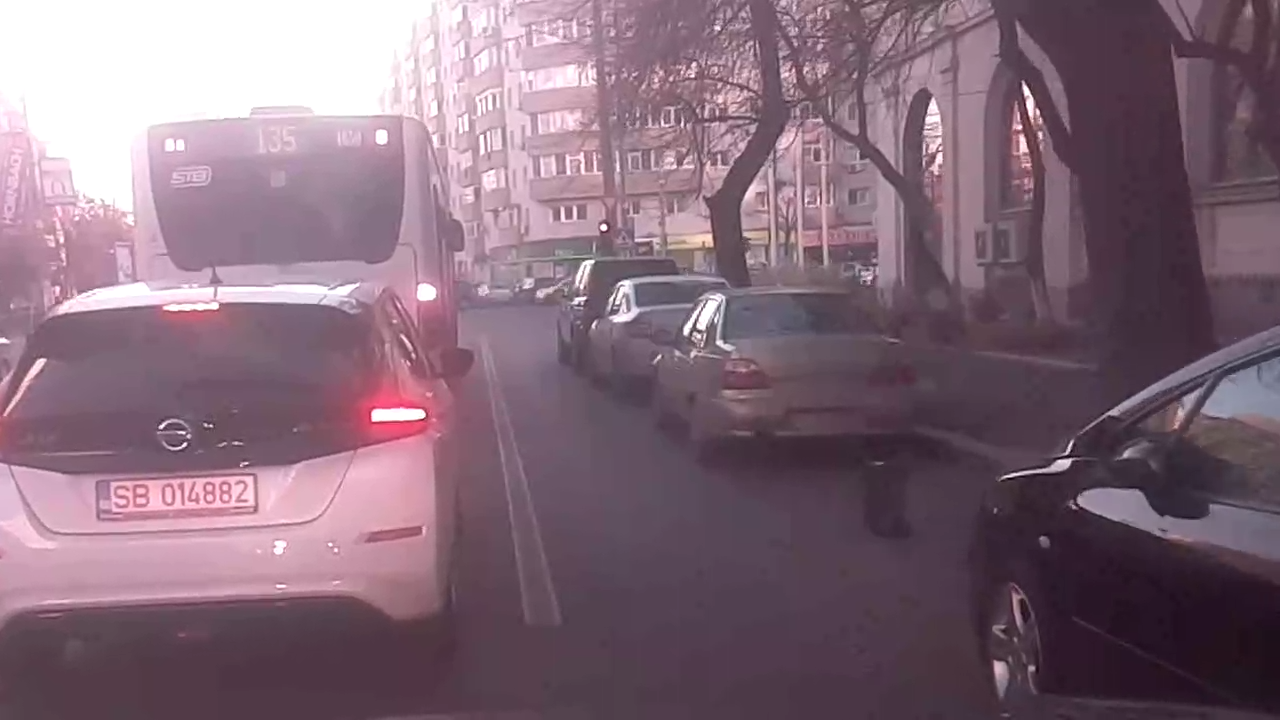license-plate: (90, 468, 262, 523)
